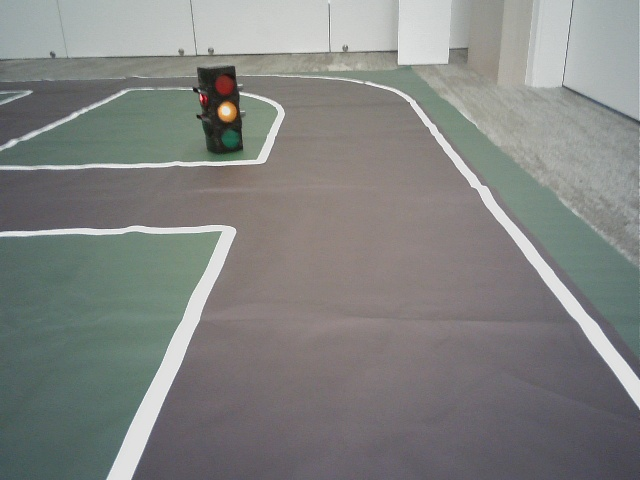yellow: (203, 69, 241, 149)
